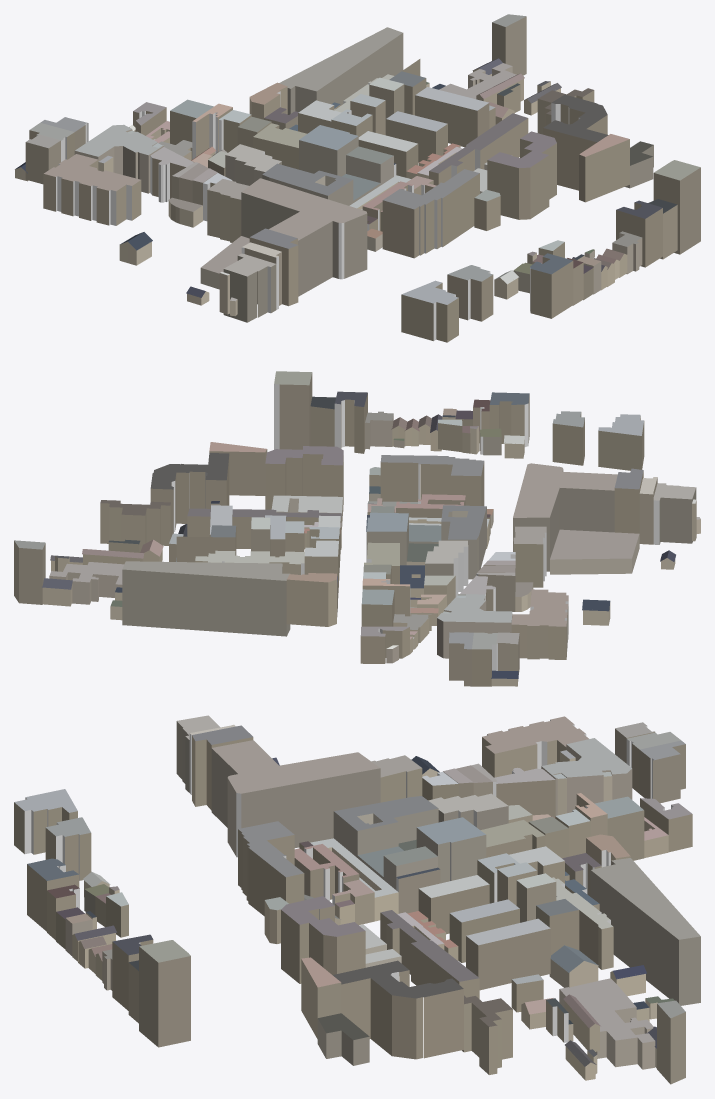
3 renders of one model, top to bottom at view 1: azimuth 30°, elevation 25°; view 2: azimuth 150°, elevation 25°; view 3: azimuth 270°, elevation 25°, orthographic. The views are drawn at different scales.
Parts seen in each view (by area): view 1: tuile; view 2: tuile; view 3: tuile.
Part boxes in pixels (x1,y1,x2,y2): tuile: [15, 14, 700, 342]; tuile: [14, 371, 700, 686]; tuile: [14, 715, 700, 1084].
Bounding box in the file's own units: 269 × 42.28 × 264.
